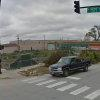Traffic light: (69, 0, 95, 18)
